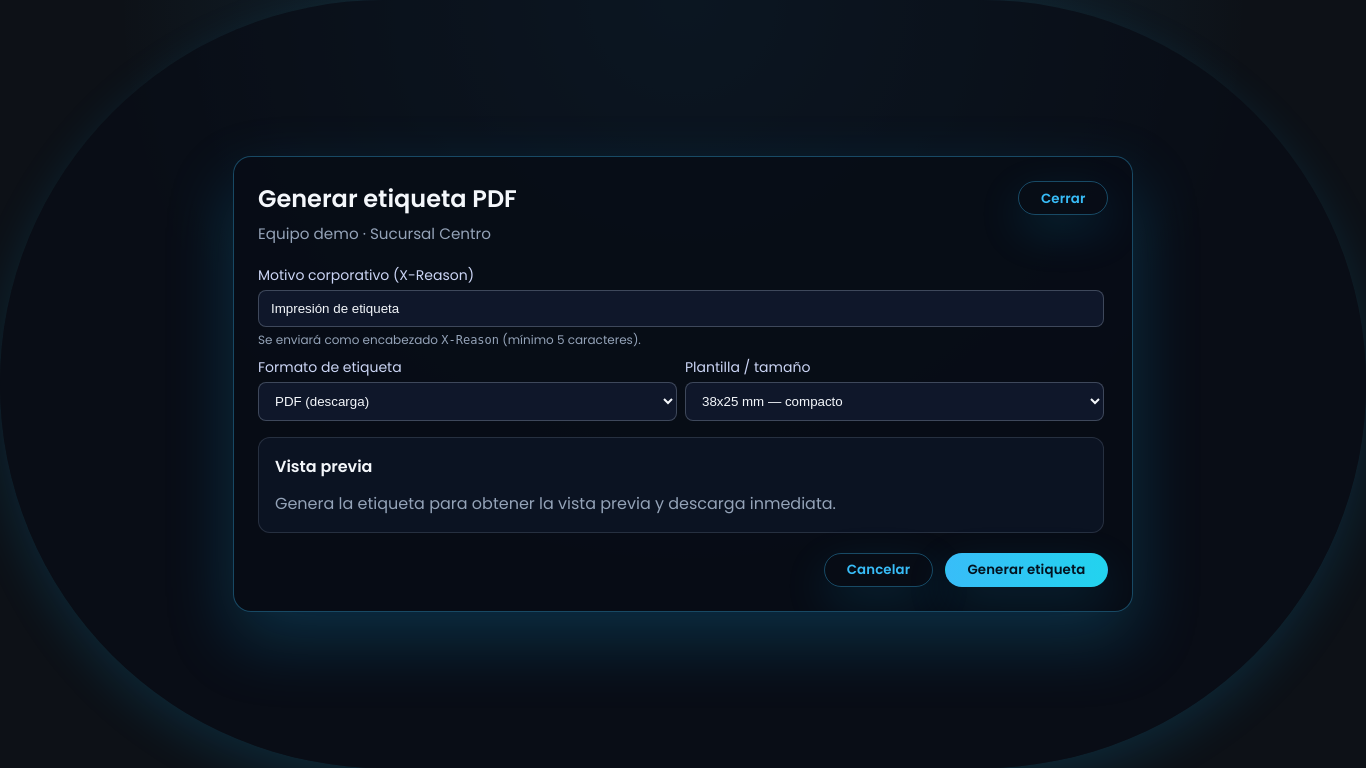
Test case: LabelPrinter › restablece el estado al cerrar
Replace the text in the field labelled "Motivo corporativo" with "Motivo válido" at {"x": 681, "y": 308}, box top-left (258, 290), bottom-right (1104, 326)
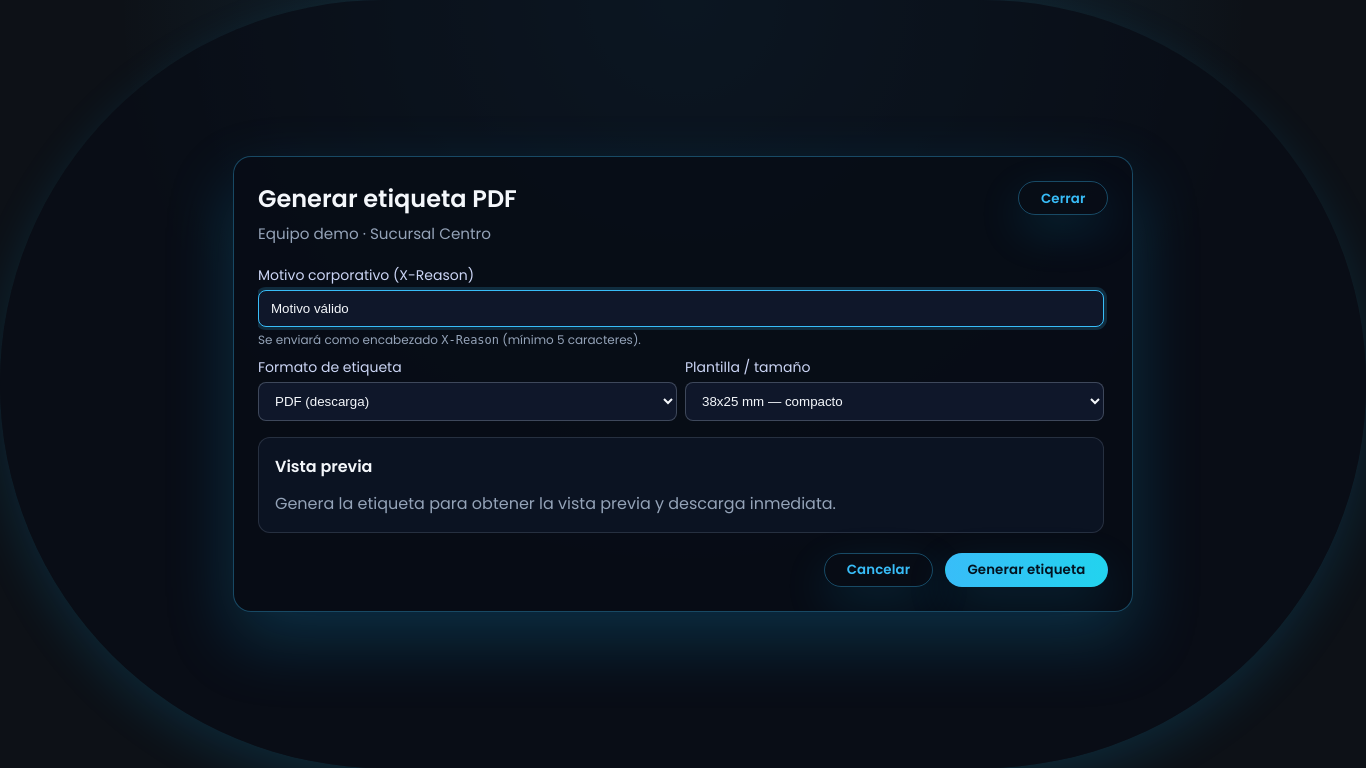
Click the button "Cancelar".
click(878, 570)  # box top-left (824, 552), bottom-right (933, 587)
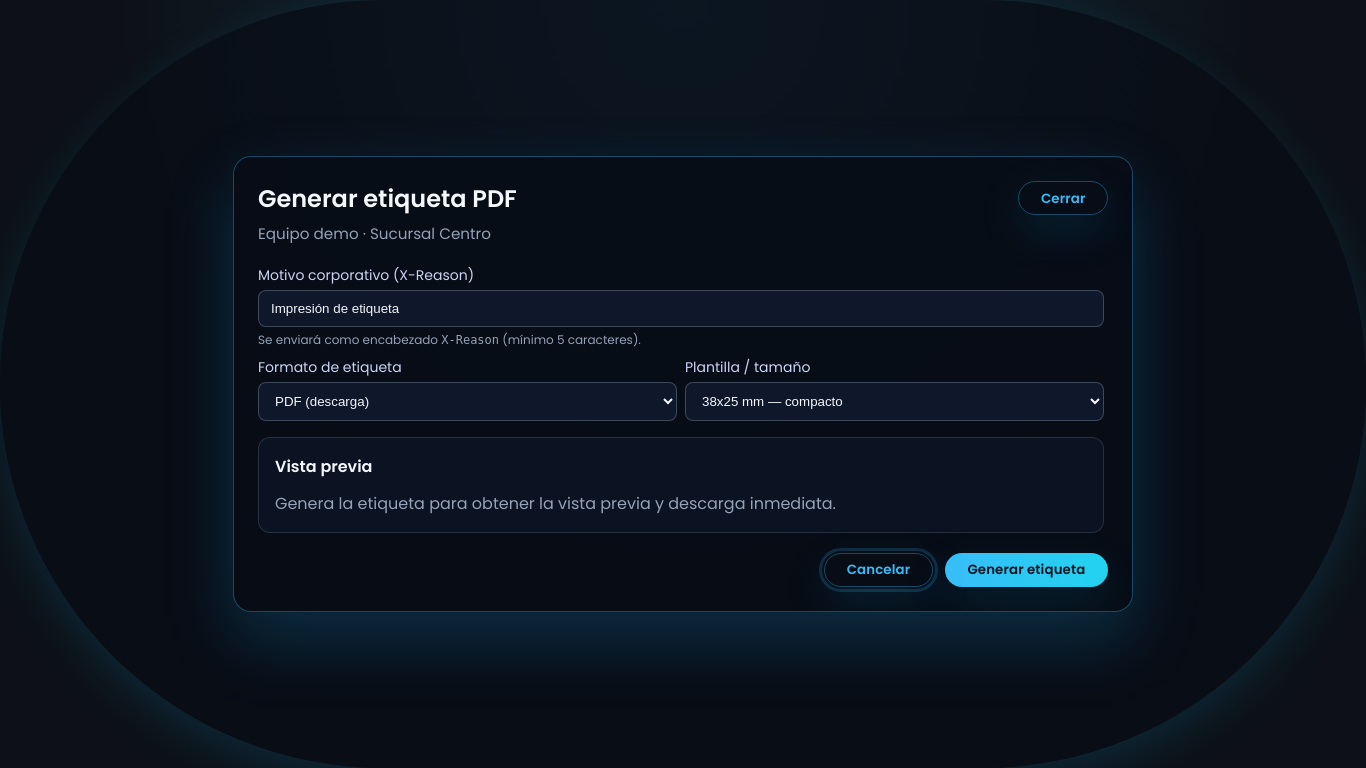
Now the field labelled "Motivo corporativo" holds "Impresión de etiqueta", box top-left (258, 290), bottom-right (1104, 326)
